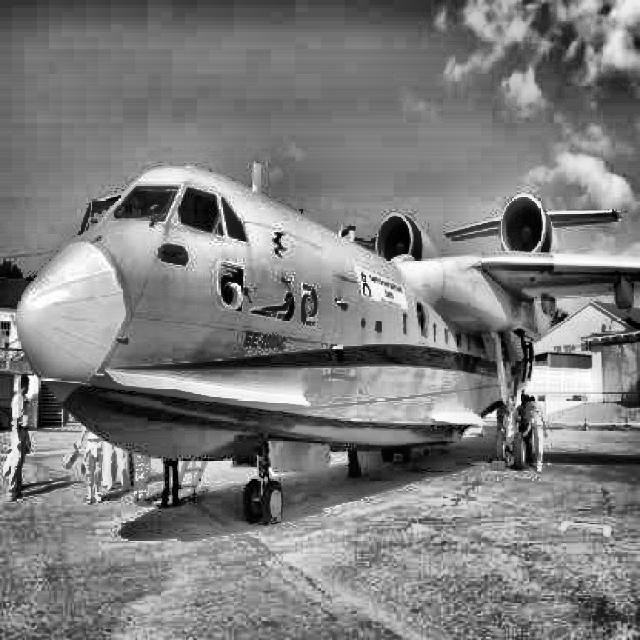Be200: (15, 162, 640, 526)
